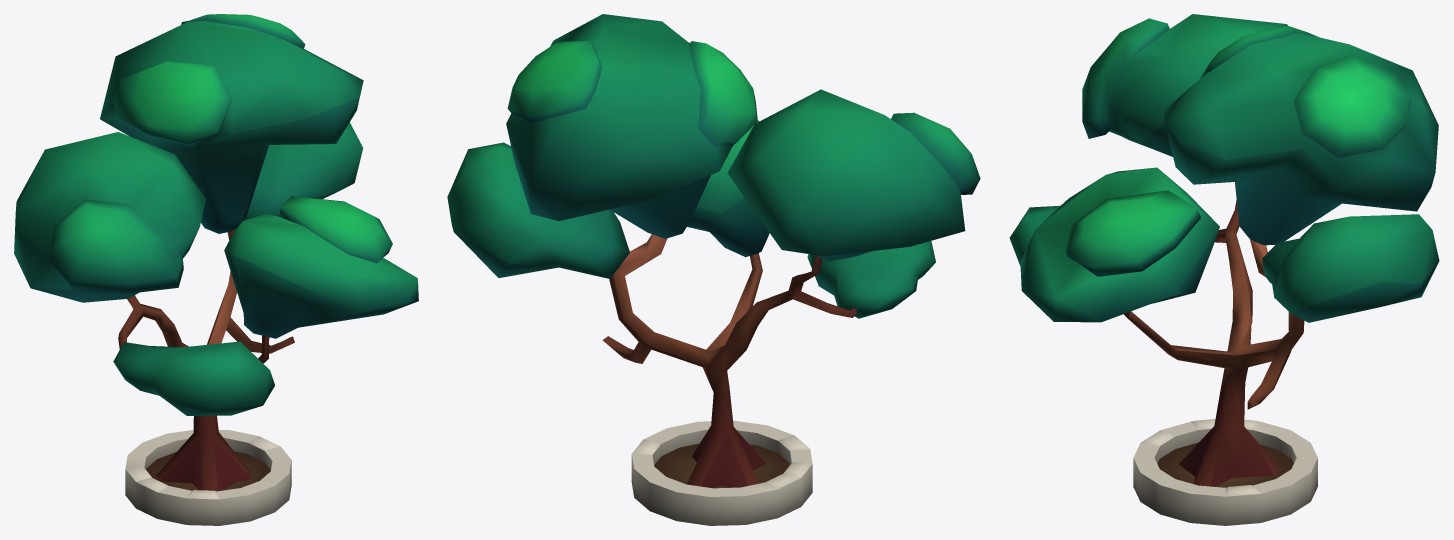
File: Tree_1H.fbx
The picture shows the model from 3 angles, left to right: view 1: azimuth 30°, elevation 25°; view 2: azimuth 150°, elevation 25°; view 3: azimuth 270°, elevation 25°; orthographic projection. The views are drawn at different scales.
Parts seen in each view (by area): view 1: Tree_1H; view 2: Tree_1H; view 3: Tree_1H.
Boxes of the visible parts, x1,y1,x2,y2 form: Tree_1H: [14, 14, 418, 525]; Tree_1H: [447, 14, 980, 525]; Tree_1H: [1009, 14, 1439, 525].
Size of the model in its own units: 332 by 338 by 284.
